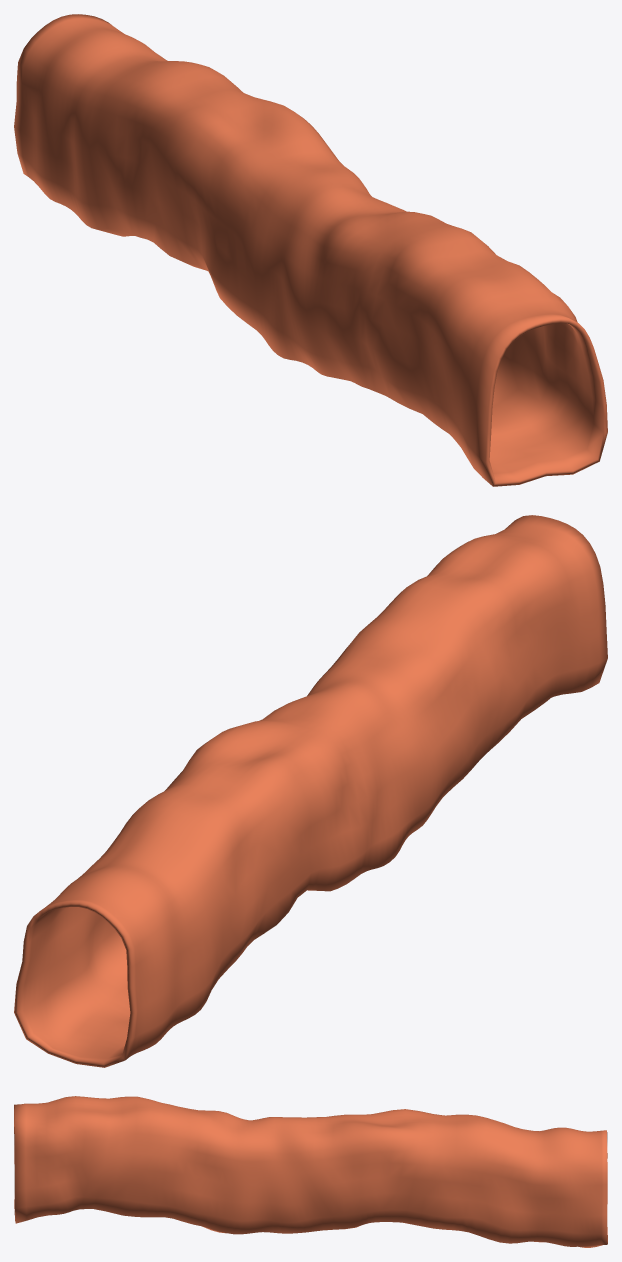
File: tunnel_straight.glb
3 views of the same model, one above another, from view 1: azimuth 30°, elevation 25°; view 2: azimuth 150°, elevation 25°; view 3: azimuth 270°, elevation 25° (orthographic). The views are drawn at different scales.
Visible parts, largest first — view 1: Tunnel; view 2: Tunnel; view 3: Tunnel.
Boxes of the visible parts, bbox=[...] form: Tunnel: bbox=[14, 14, 607, 486]; Tunnel: bbox=[14, 515, 607, 1067]; Tunnel: bbox=[14, 1096, 607, 1247].
Bounding box in the file's own units: 3.79 × 5.96 × 23.96.
